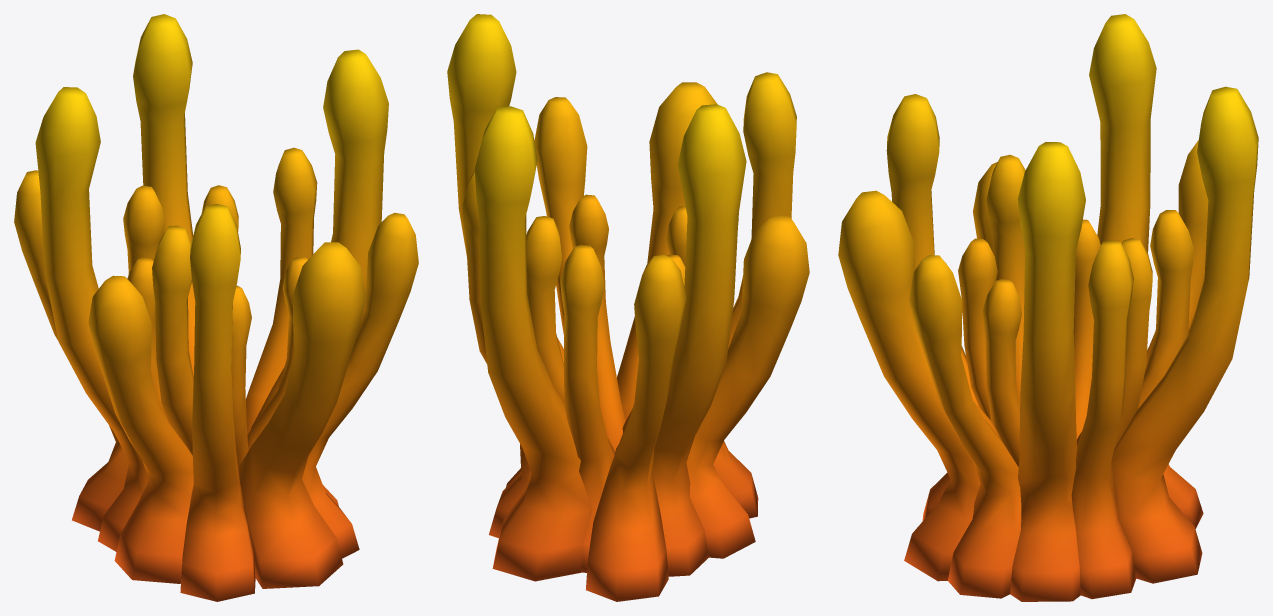
File: Orange_Coral_01.fbx
3 views of the same model, side by side, from view 1: azimuth 30°, elevation 25°; view 2: azimuth 150°, elevation 25°; view 3: azimuth 270°, elevation 25° (orthographic). The views are drawn at different scales.
Visible parts, largest first — view 1: Orange_Coral_01; view 2: Orange_Coral_01; view 3: Orange_Coral_01.
Boxes of the visible parts, box(x1,y1,x2,y2) form: Orange_Coral_01: box(14, 14, 418, 601); Orange_Coral_01: box(447, 14, 809, 601); Orange_Coral_01: box(838, 14, 1258, 601).
Bounding box in the file's own units: 111 × 155 × 126.
